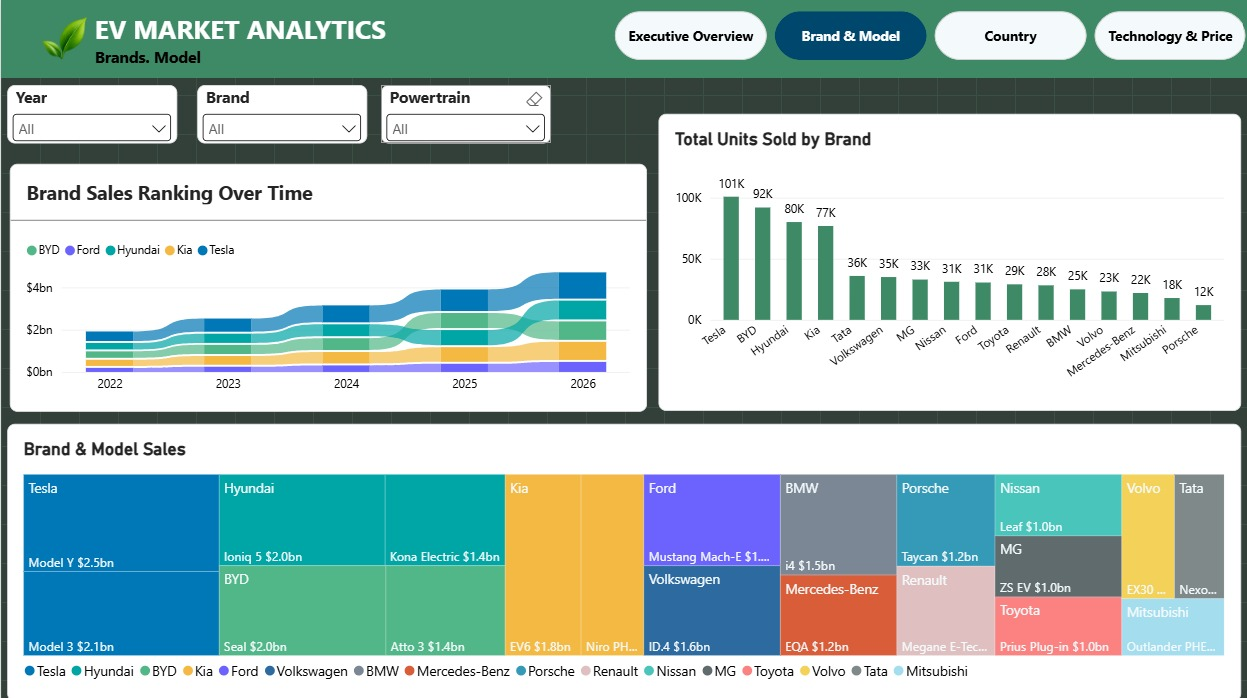

The dashboard page shown, as its layout file describes it:
{"tool":"powerbi","page":{"name":"Brand & Model ","canvas":[1280,720],"ordinal":35},"visuals":[{"type":"shape","box":[0,0,1279,80],"z":0},{"type":"textbox","box":[96.3,11.1,381.5,59.3],"z":1000},{"type":"treemap","title":"Brand & Model Sales","fields":{"Details":["Dim_Vehicle.Model"],"Group":["Dim_Vehicle.Brand"],"Values":["Calculation_Table.Total Sales"]},"box":[6.2,434.6,1265.4,285.2],"z":2000},{"type":"ribbonChart","title":"Brand Sales Ranking Over Time","fields":{"Category":["Dim_Date.Year"],"Series":["Dim_Vehicle.Brand"],"Y":["Calculation_Table.Total_Sales"]},"box":[9.1,167.5,653.2,254.5],"z":3000},{"type":"clusteredColumnChart","fields":{"Category":["Dim_Vehicle.Brand"],"Y":["Calculation_Table.Total Units Sold"]},"box":[674,116.9,597.4,305.2],"z":4000},{"type":"pageNavigator","box":[629.6,11.1,649.2,50.5],"z":5000},{"type":"slicer","fields":{"Values":["Dim_Date.Year"]},"box":[6.2,87.7,174,59.7],"z":6000},{"type":"slicer","fields":{"Values":["Dim_Vehicle.Brand"]},"box":[201.2,87.7,174,59.7],"z":7000},{"type":"slicer","fields":{"Values":["Dim_Vehicle.Powertrain"]},"box":[390.1,87.7,174,59.7],"z":8000},{"type":"image","box":[0,12.3,230.9,108.6],"z":9000}]}

Visuals, with their boxes in screenshot pixels (x1, y1, x2, y2), scaled from the page's 1280x720 canvas onto the 1247x698 screenshot:
shape: region(0, 0, 1246, 78)
textbox: region(94, 11, 465, 68)
"Brand & Model Sales" treemap: region(6, 421, 1239, 697)
"Brand Sales Ranking Over Time" ribbonChart: region(9, 162, 645, 409)
clusteredColumnChart - Dim_Vehicle.Brand x Calculation_Table.Total Units Sold: region(657, 113, 1239, 409)
pageNavigator: region(613, 11, 1246, 60)
slicer - Dim_Date.Year: region(6, 85, 176, 143)
slicer - Dim_Vehicle.Brand: region(196, 85, 366, 143)
slicer - Dim_Vehicle.Powertrain: region(380, 85, 550, 143)
image: region(0, 12, 225, 117)
